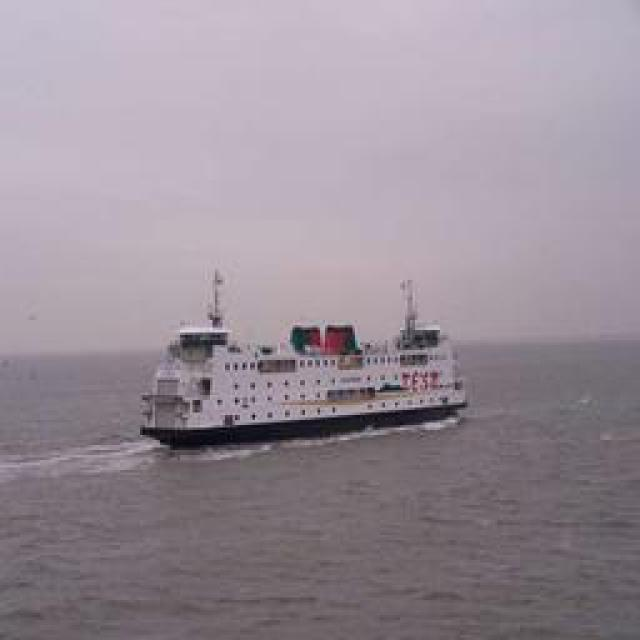Ship: (135, 264, 468, 454)
